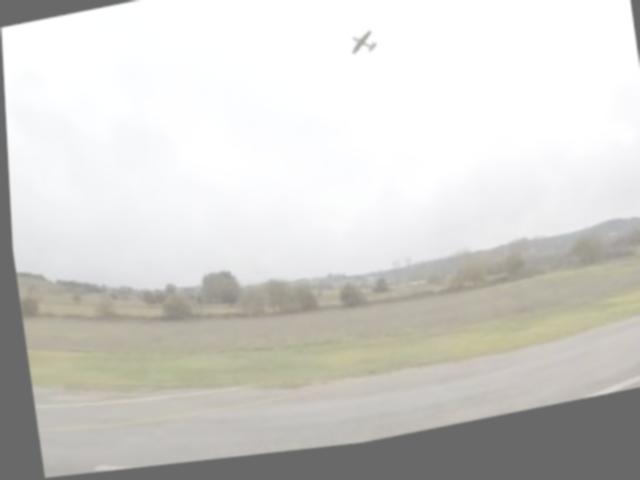uav: (344, 30, 378, 71)
